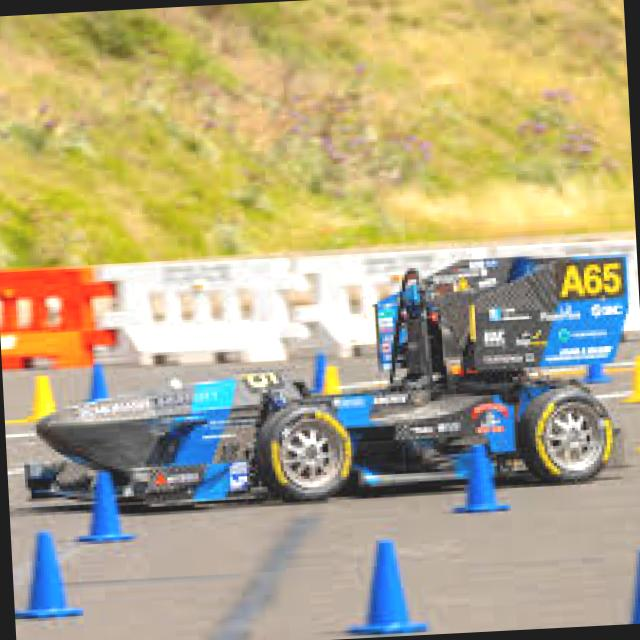blue_cone: (344, 538, 427, 634), (11, 530, 83, 617), (74, 472, 134, 543), (450, 444, 511, 513), (623, 549, 640, 621), (85, 363, 112, 402), (581, 353, 609, 383), (308, 353, 329, 392)
yellow_cone: (25, 373, 59, 422), (616, 353, 640, 400), (322, 366, 341, 394)
